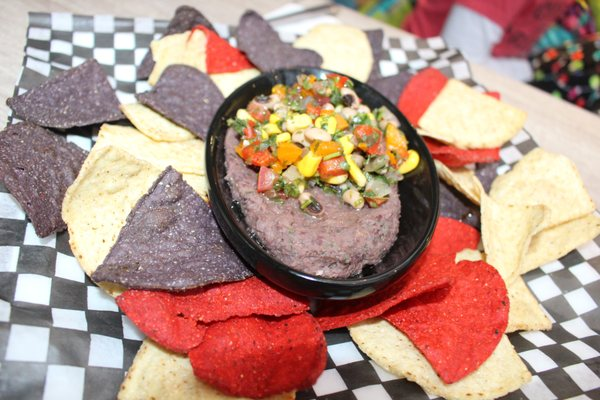soup: (349, 255, 534, 395)
sushi: (207, 62, 442, 301)
